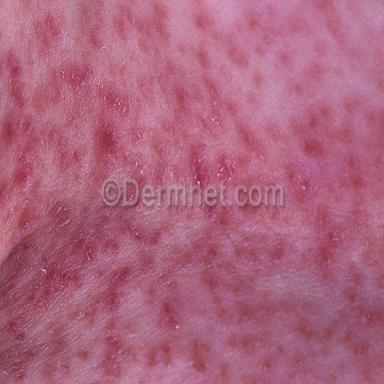Darier_s-Disease: (0, 2, 383, 383)
